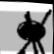not correct: (8, 5, 54, 54)
